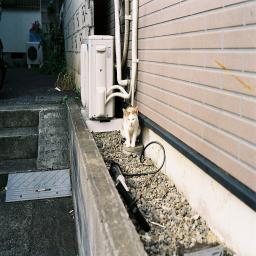catnose: (130, 122, 133, 125)
